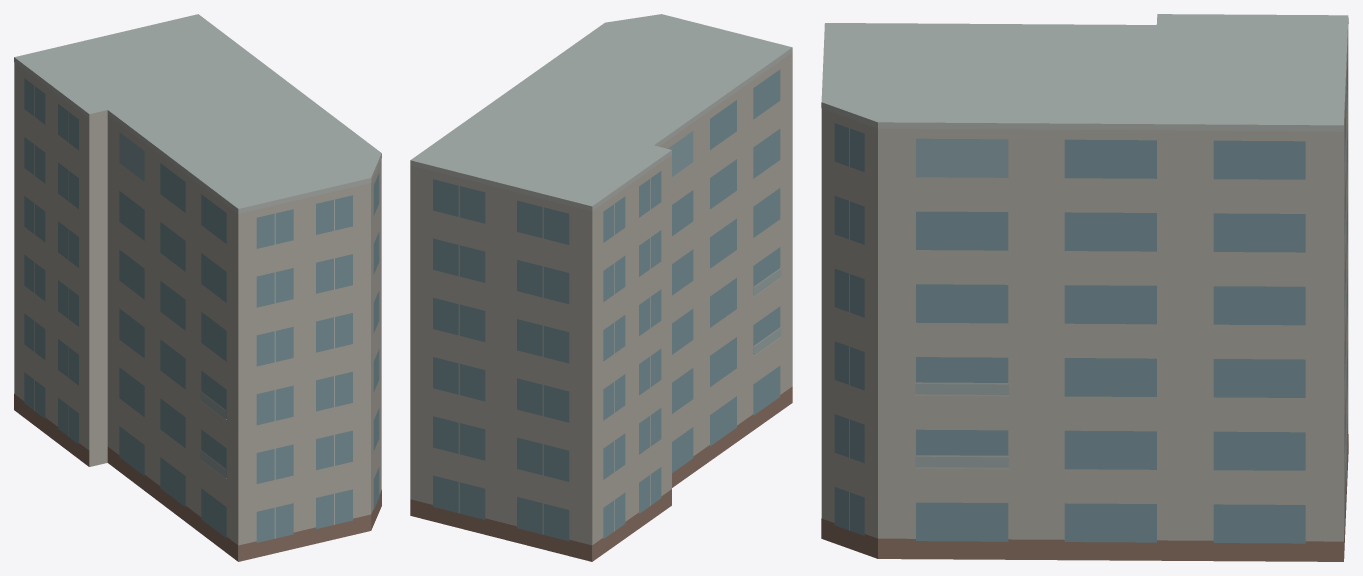
File: survey-upis-32987759.glb
3 renders of one model, left to right at view 1: azimuth 30°, elevation 25°; view 2: azimuth 150°, elevation 25°; view 3: azimuth 270°, elevation 25°, orthographic. The views are drawn at different scales.
Visible parts, largest first — view 1: survey-upis-32987759.tmp; view 2: survey-upis-32987759.tmp; view 3: survey-upis-32987759.tmp.
Boxes of the visible parts, x1,y1,x2,y2 form: survey-upis-32987759.tmp: (14, 14, 381, 561); survey-upis-32987759.tmp: (410, 14, 792, 561); survey-upis-32987759.tmp: (821, 14, 1348, 561).
Bounding box in the file's own units: 9.42 × 17.2 × 18.83.
